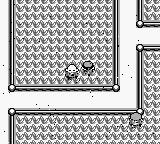captura: (15, 51, 160, 143), (15, 0, 114, 86), (144, 0, 160, 20)
main: (82, 62, 95, 75)
npc: (65, 65, 79, 79), (129, 113, 143, 126)
